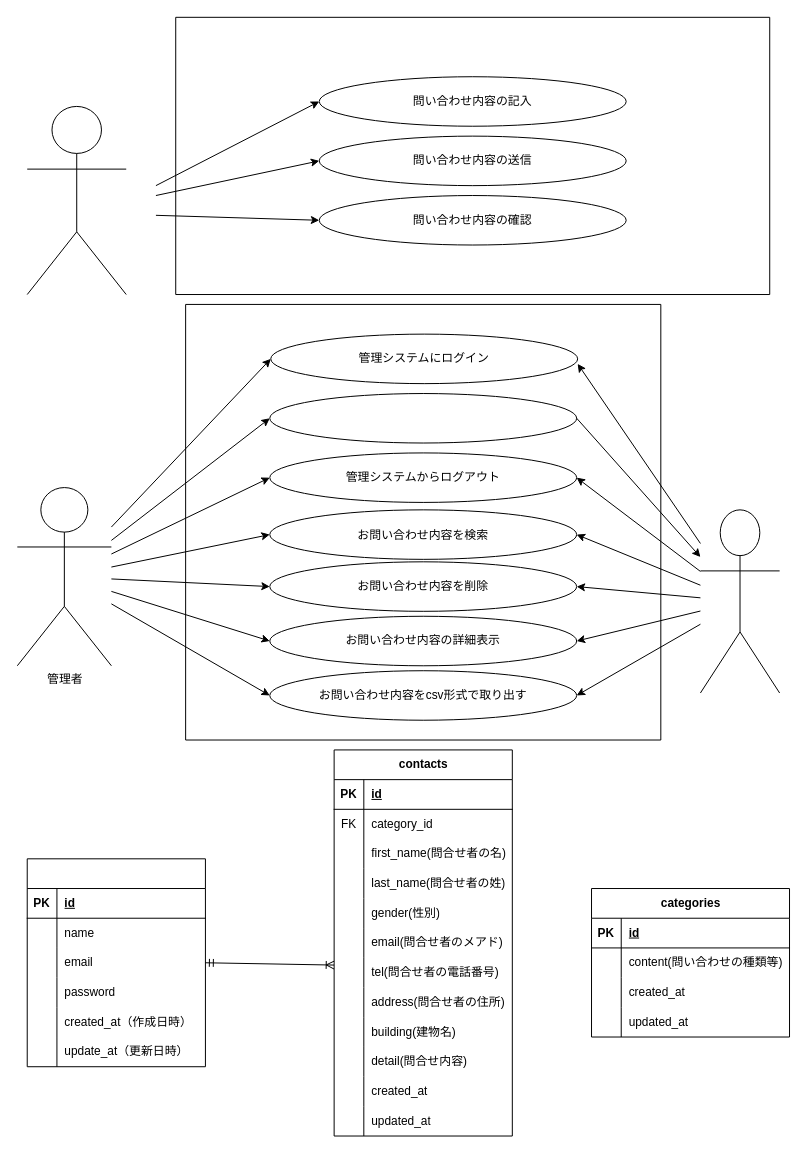
Some shapes in this 807 by 1153 pixel diagram are drawn without their labels. The shapes that lost their labels are listed below. From the top down, each one's box as (x1, y1, x2, y2) in pixels, then its label:
(175, 16, 770, 295): 問い合わせ送信システム
(26, 105, 126, 295): 利用者
(269, 393, 577, 443): 新規ユーザーの作成・登録
(185, 303, 661, 740): 問い合わせ管理システム
(699, 509, 780, 693): 新規管理者
(26, 858, 205, 1067): users
